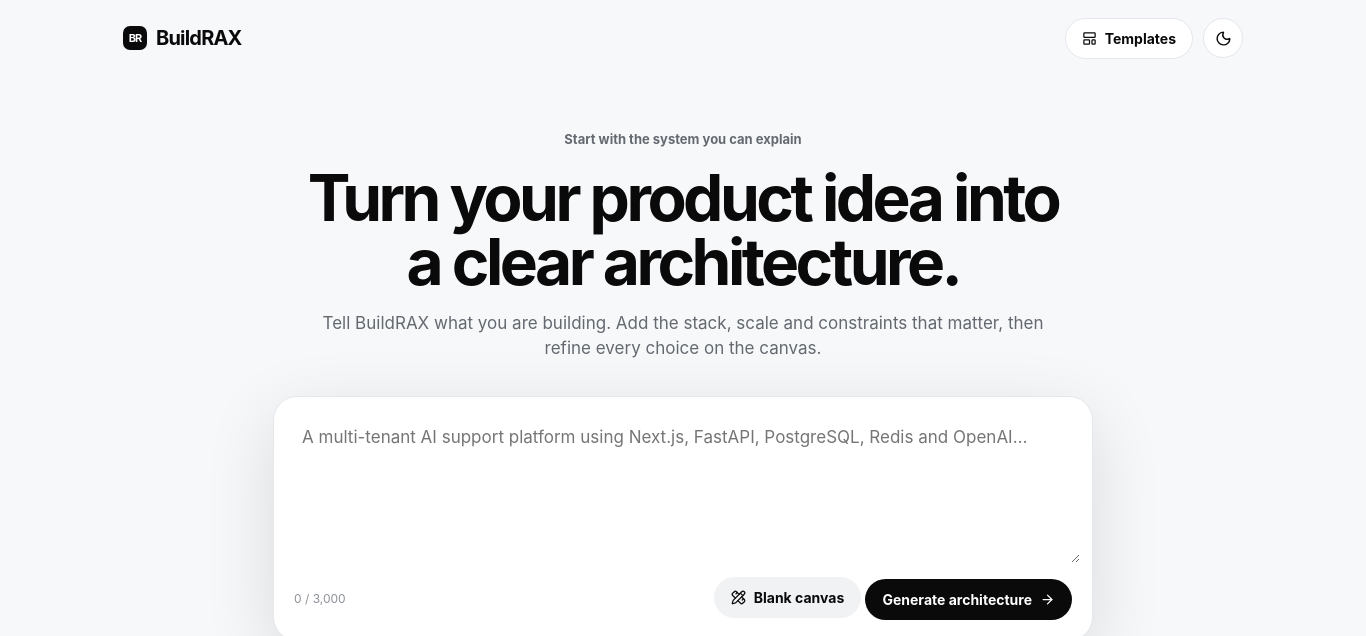
Test case: new architecture journey › sends architecture context as separate fields
Replace the text in the text box named "Architecture prompt" with "Build a tenant-aware support platform and preserve every explicit input." at x=683, y=486, box left=286, top=408, right=1080, bottom=562
(page scrolled)
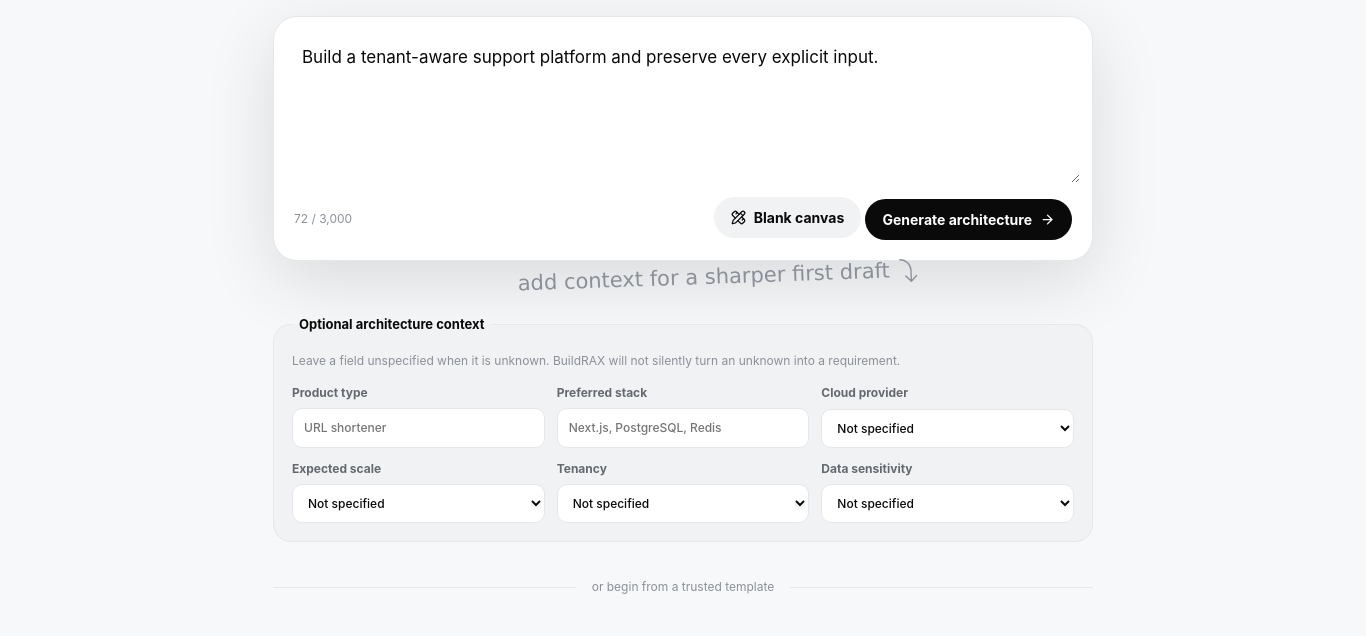
Type "Support platform" into the field labelled "Product type" at x=418, y=428, box left=292, top=408, right=545, bottom=448
Type "Next.js, PostgreSQL" into the field labelled "Preferred stack" at x=683, y=428, box left=557, top=408, right=809, bottom=448
Select "AWS" in the dropdown labelled "Cloud provider" at x=948, y=428, box left=821, top=408, right=1074, bottom=448
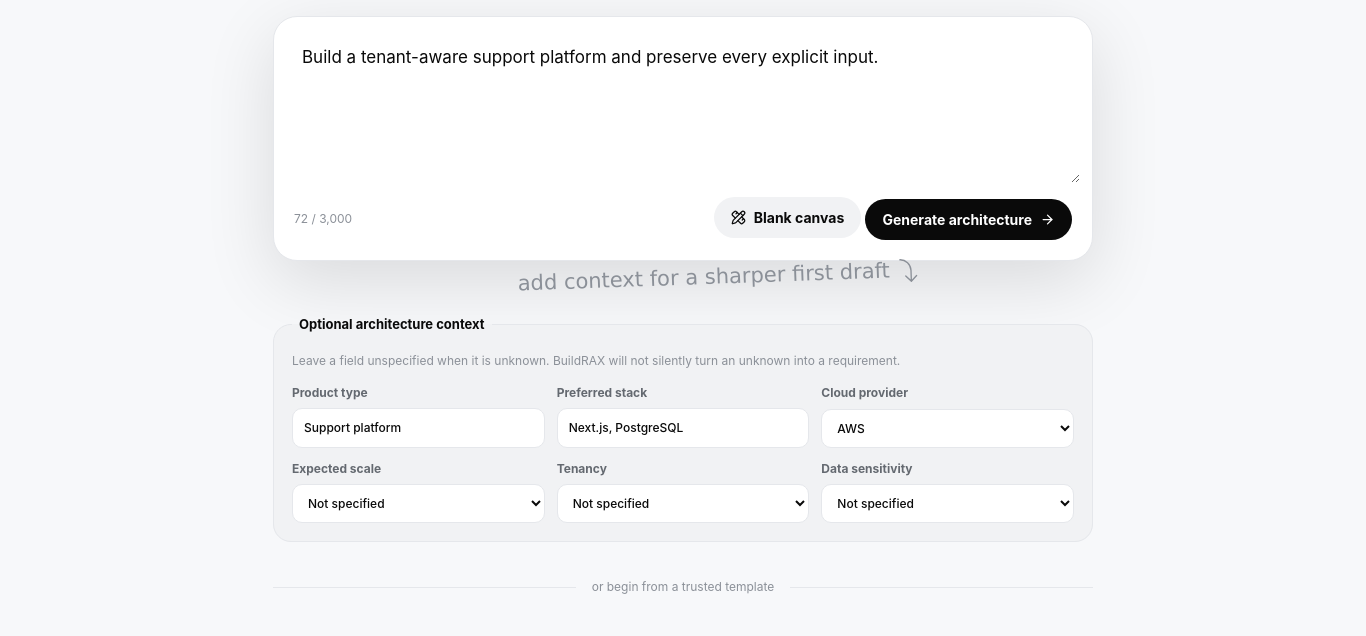
Select "Large / global" in the dropdown labelled "Expected scale" at x=418, y=504, box left=292, top=484, right=545, bottom=523
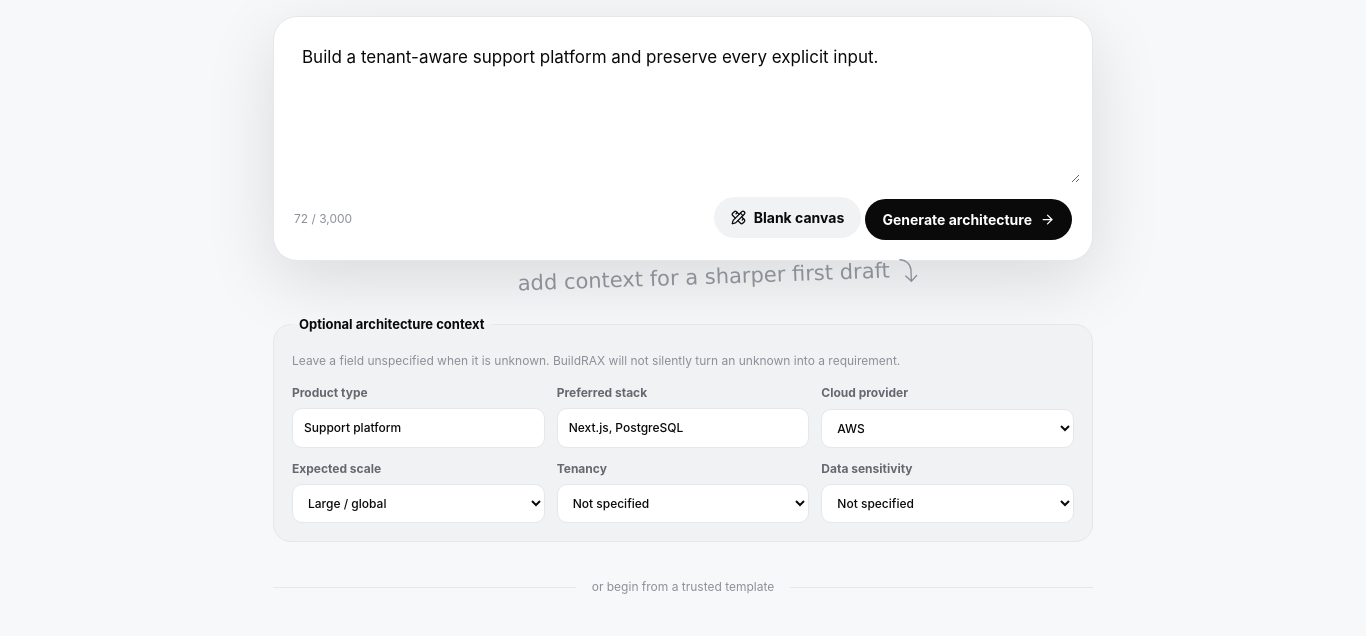
Select "Multi-tenant" in the dropdown labelled "Tenancy" at x=683, y=504, box left=557, top=484, right=809, bottom=523
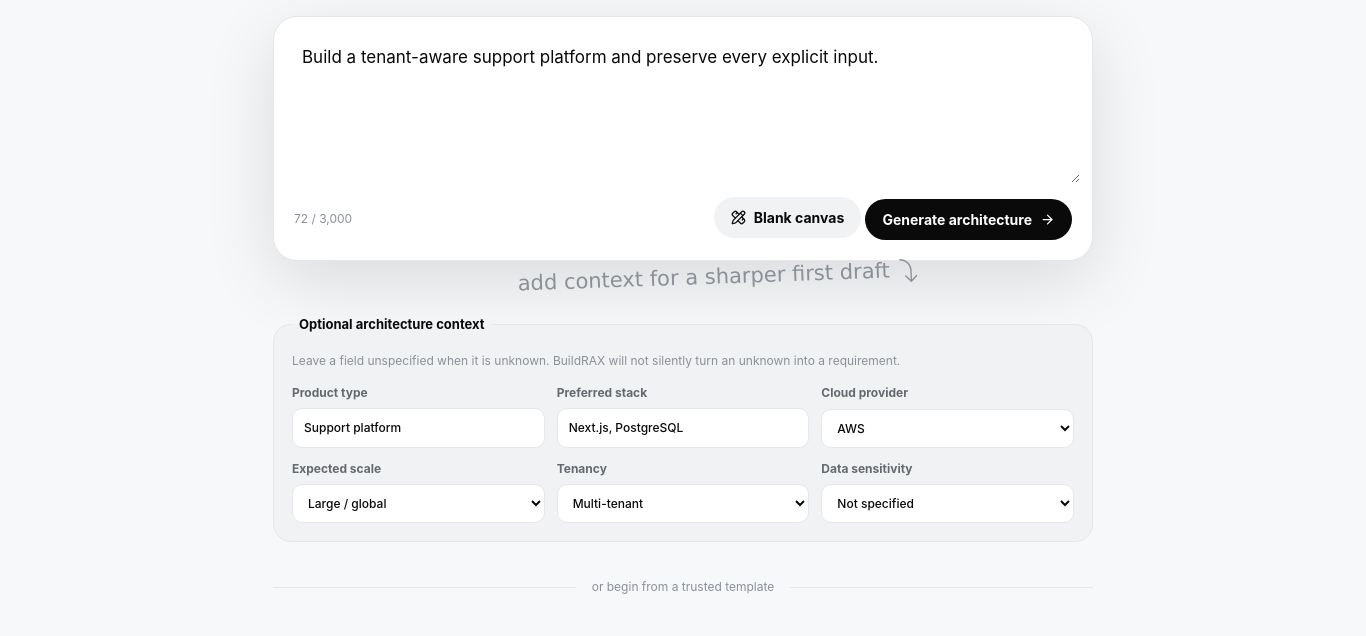
Select "Confidential" in the dropdown labelled "Data sensitivity" at x=948, y=504, box left=821, top=484, right=1074, bottom=523
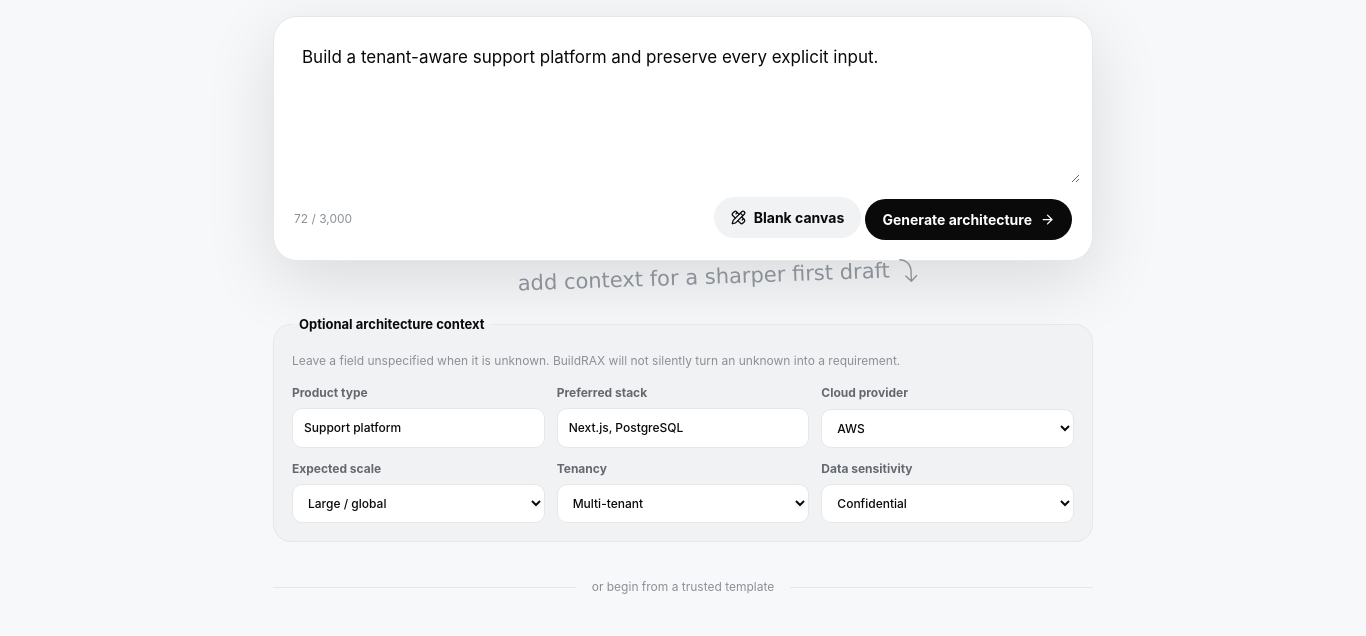
Click the button "Generate architecture" at x=969, y=220, box left=866, top=199, right=1072, bottom=240
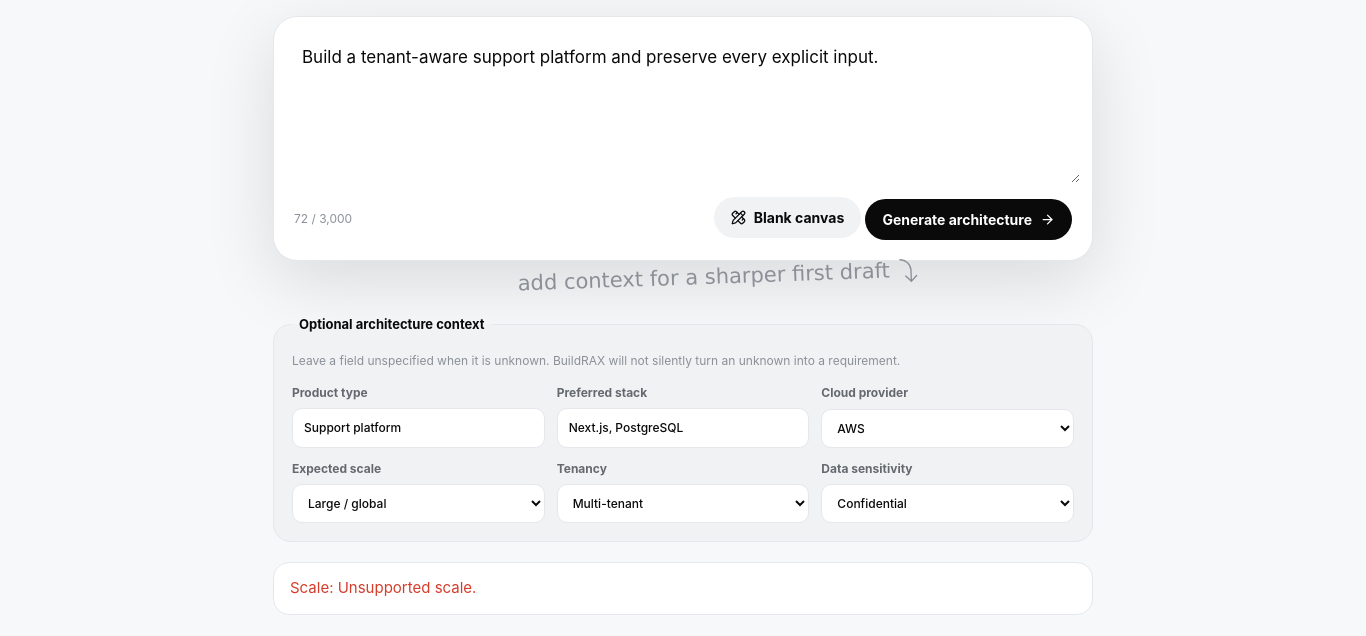
Check: the text "Scale: Unsupported scale." is shown, box left=290, top=578, right=476, bottom=597
